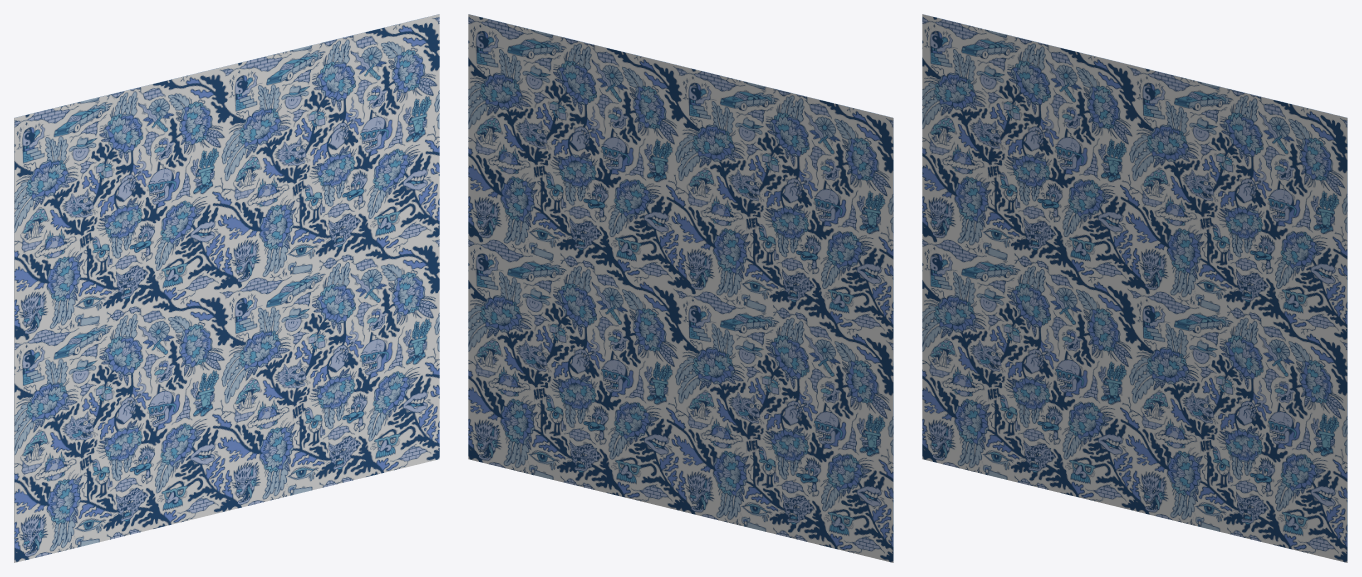
File: porcelain7.glb
3 views of the same model, side by side, from view 1: azimuth 30°, elevation 25°; view 2: azimuth 150°, elevation 25°; view 3: azimuth 330°, elevation 25° (orthographic).
Parts seen in each view (by area): view 1: Cube_fracturepart23, Cube_fracturepart9, Cube_fracturepart8, Cube_fracturepart3, Cube_fracturepart1, Cube_fracturepart10, Cube_fracturepart2, Cube_fracturepart7, Cube_fracturepart18, Cube_fracturepart4, Cube_fracturepart19, Cube_fracturepart15 (+12 smaller); view 2: Cube_fracturepart23, Cube_fracturepart9, Cube_fracturepart8, Cube_fracturepart3, Cube_fracturepart1, Cube_fracturepart10, Cube_fracturepart2, Cube_fracturepart7, Cube_fracturepart18, Cube_fracturepart4, Cube_fracturepart19, Cube_fracturepart15 (+12 smaller); view 3: Cube_fracturepart23, Cube_fracturepart9, Cube_fracturepart8, Cube_fracturepart3, Cube_fracturepart1, Cube_fracturepart10, Cube_fracturepart2, Cube_fracturepart7, Cube_fracturepart18, Cube_fracturepart4, Cube_fracturepart19, Cube_fracturepart15 (+12 smaller).
Part boxes in pixels (left/top/right/bottom): Cube_fracturepart23: left=14, top=340, right=174, bottom=562; Cube_fracturepart9: left=14, top=77, right=211, bottom=239; Cube_fracturepart8: left=315, top=15, right=439, bottom=245; Cube_fracturepart3: left=107, top=373, right=264, bottom=540; Cube_fracturepart1: left=336, top=296, right=439, bottom=475; Cube_fracturepart10: left=202, top=22, right=431, bottom=177; Cube_fracturepart2: left=14, top=192, right=117, bottom=373; Cube_fracturepart7: left=259, top=357, right=372, bottom=503; Cube_fracturepart18: left=315, top=244, right=439, bottom=347; Cube_fracturepart4: left=180, top=14, right=439, bottom=119; Cube_fracturepart19: left=176, top=170, right=247, bottom=297; Cube_fracturepart15: left=14, top=289, right=130, bottom=406; Cube_fracturepart23: left=733, top=340, right=893, bottom=562; Cube_fracturepart9: left=696, top=77, right=893, bottom=239; Cube_fracturepart8: left=468, top=15, right=592, bottom=245; Cube_fracturepart3: left=643, top=373, right=800, bottom=540; Cube_fracturepart1: left=468, top=296, right=571, bottom=475; Cube_fracturepart10: left=476, top=22, right=705, bottom=177; Cube_fracturepart2: left=790, top=192, right=893, bottom=373; Cube_fracturepart7: left=535, top=357, right=648, bottom=503; Cube_fracturepart18: left=468, top=244, right=592, bottom=347; Cube_fracturepart4: left=468, top=14, right=727, bottom=119; Cube_fracturepart19: left=660, top=170, right=731, bottom=297; Cube_fracturepart15: left=777, top=289, right=893, bottom=406; Cube_fracturepart23: left=922, top=297, right=1082, bottom=481; Cube_fracturepart9: left=922, top=14, right=1119, bottom=187; Cube_fracturepart8: left=1223, top=118, right=1347, bottom=349; Cube_fracturepart3: left=1014, top=352, right=1172, bottom=518; Cube_fracturepart1: left=1244, top=399, right=1347, bottom=562; Cube_fracturepart10: left=1110, top=108, right=1339, bottom=199; Cube_fracturepart2: left=922, top=89, right=1024, bottom=269; Cube_fracturepart7: left=1166, top=411, right=1280, bottom=546; Cube_fracturepart18: left=1223, top=322, right=1347, bottom=403; Cube_fracturepart4: left=1088, top=54, right=1347, bottom=121; Cube_fracturepart19: left=1083, top=163, right=1154, bottom=291; Cube_fracturepart15: left=922, top=223, right=1038, bottom=303.
Size of the model in its own units: 0.2 by 0.2 by 0.00025.
Materials: 1 (1 with a texture image).
